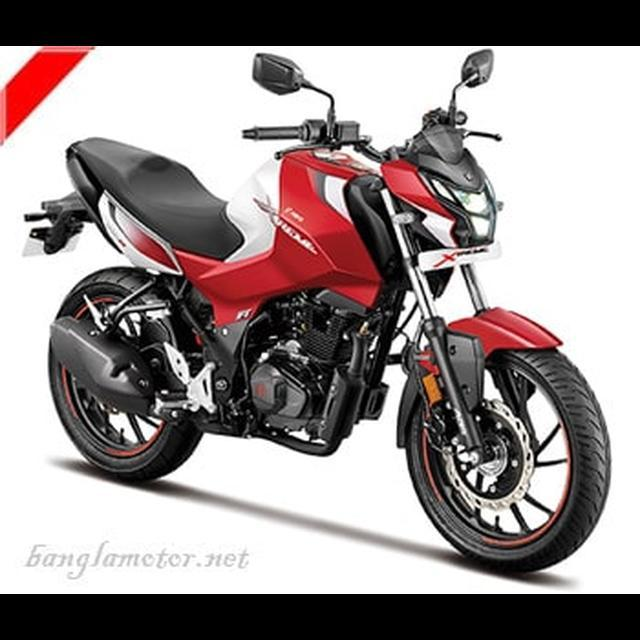motorcycle: (15, 45, 618, 580)
